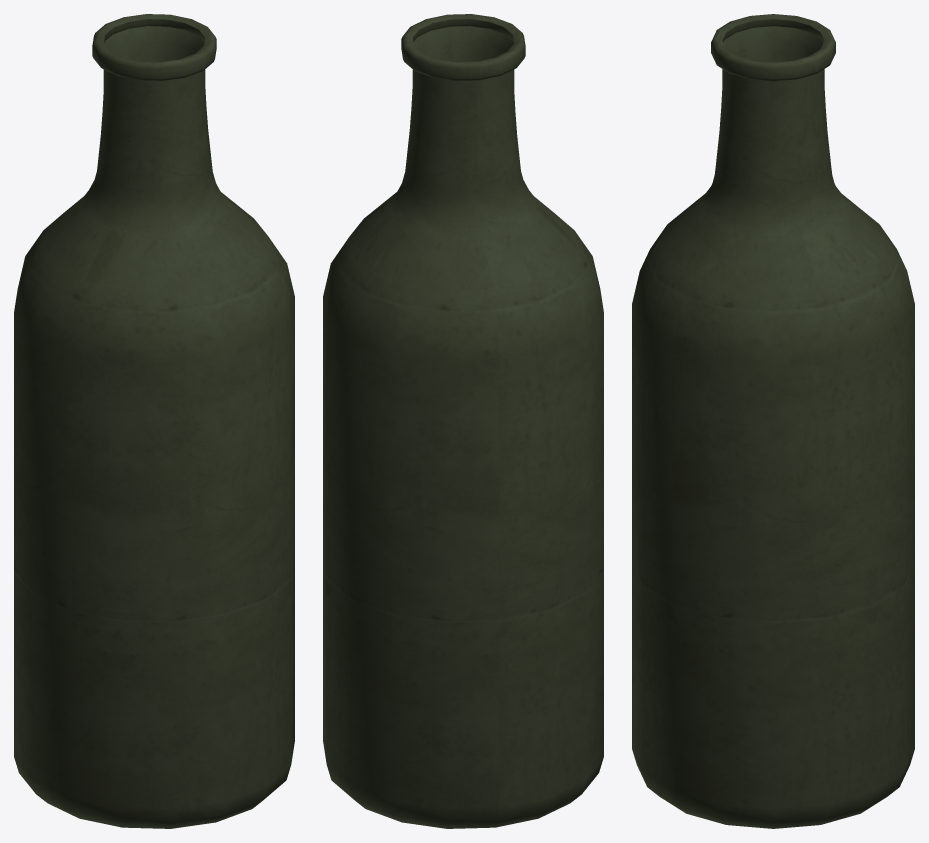
Rendered from glass.fbx.
3 renders of one model, left to right at view 1: azimuth 30°, elevation 25°; view 2: azimuth 150°, elevation 25°; view 3: azimuth 270°, elevation 25°, orthographic.
Visible parts, largest first — view 1: Object_2; view 2: Object_2; view 3: Object_2.
Part boxes in pixels (x1,y1,x2,y2): Object_2: [14, 14, 294, 828]; Object_2: [323, 14, 603, 828]; Object_2: [632, 14, 914, 828].
Size of the model in its own units: 169 by 490 by 169.
